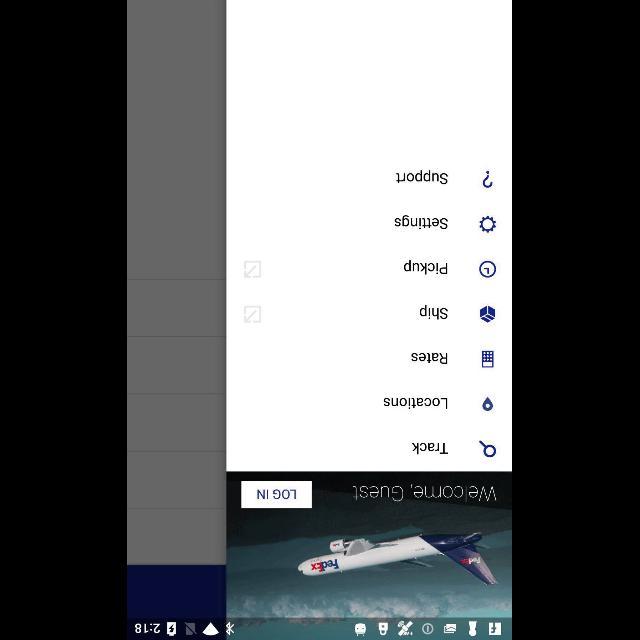icon: (244, 260, 262, 278), (479, 260, 496, 278), (479, 440, 496, 458), (479, 215, 496, 232), (244, 306, 262, 322), (483, 170, 493, 188), (482, 396, 493, 410)
image: (228, 471, 512, 617), (480, 306, 496, 322), (482, 350, 494, 368)
panel: (228, 0, 512, 616)
text: (354, 483, 498, 502), (395, 214, 449, 230), (384, 397, 448, 409), (396, 170, 449, 184), (404, 260, 448, 274), (412, 442, 450, 454), (420, 304, 448, 320), (412, 352, 448, 364)
textbutton: (242, 480, 312, 508)
uppertaskbar: (128, 617, 512, 639)
